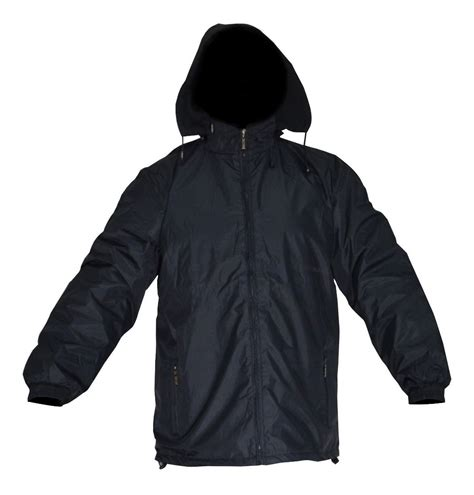nylon: (23, 23, 452, 467)
